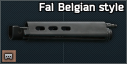SA-58%5FAL Belgian style handguard: (0, 0, 127, 64)
